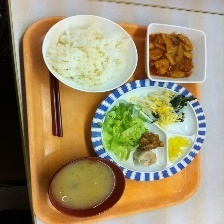dal: (46, 157, 122, 213)
